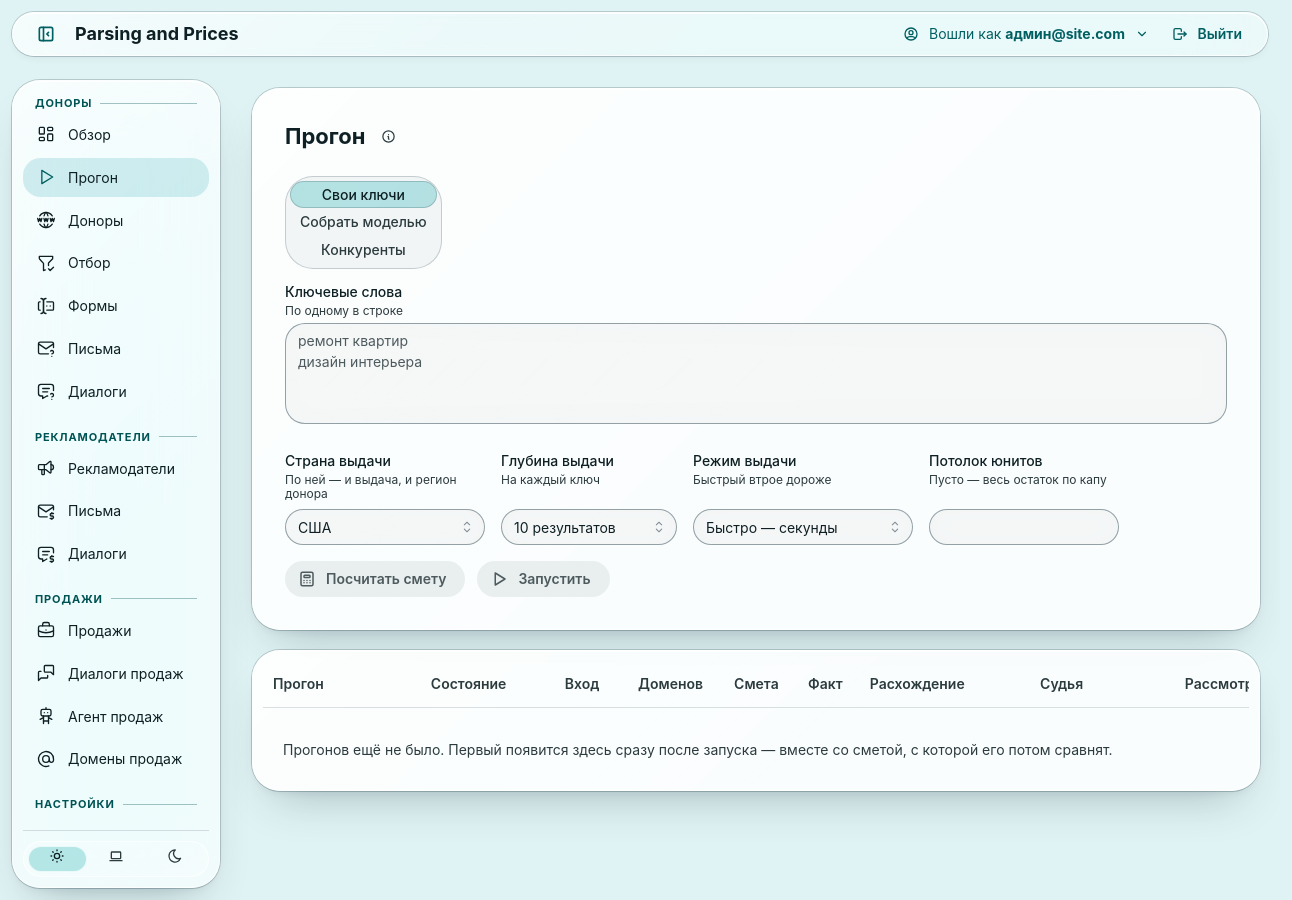
Test: вход «Конкуренты» › полей ключей и выдачи нет вовсе: они не отрисованы, а не спрятаны
Expected: the text box labelled "Ключевые слова" is shown, [285,323,1227,424]
Click the 1st radio button labelled "Конкуренты" at coordinates (363, 250), box [321,241,406,258]
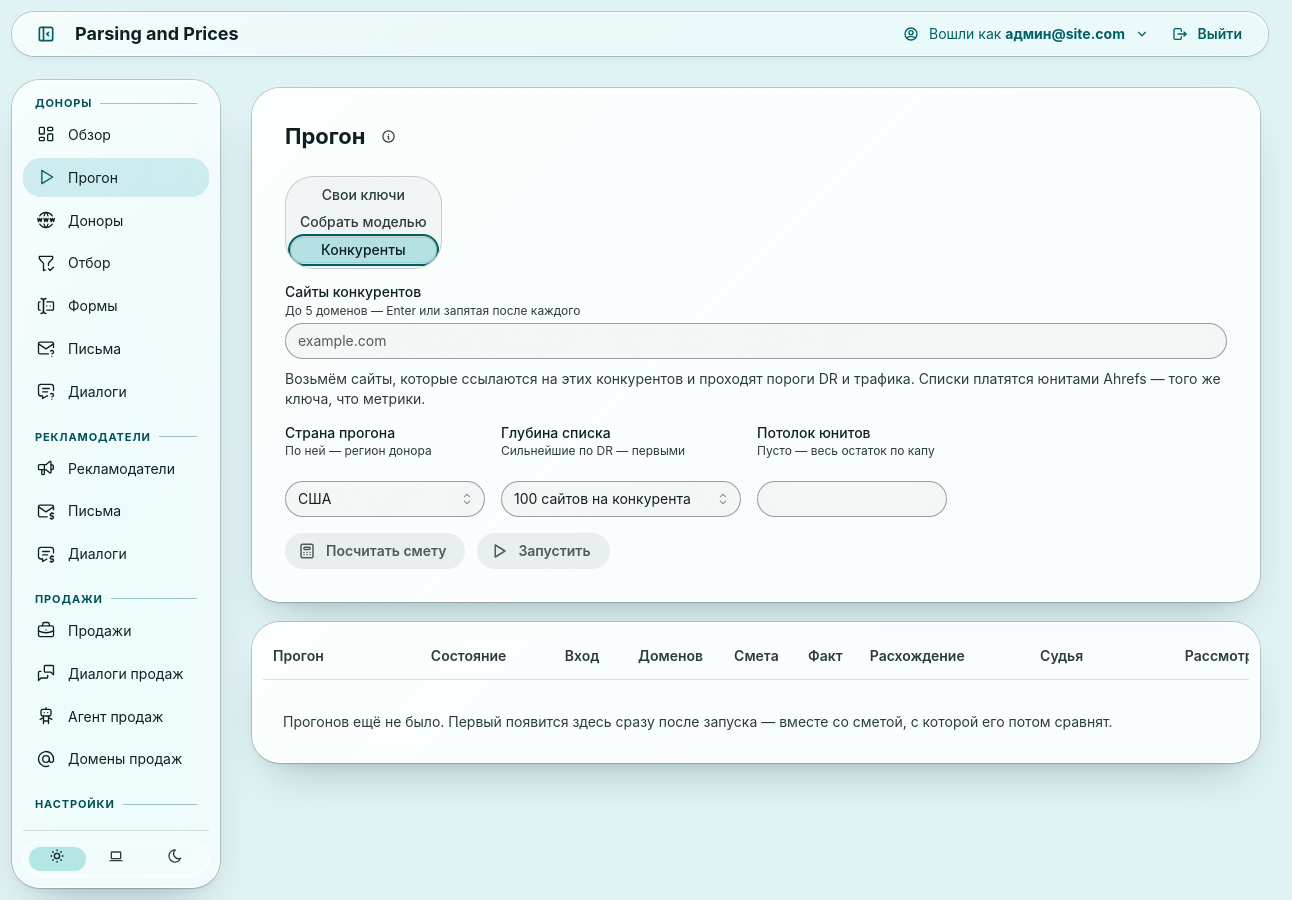
Expected: the field labelled "Сайты конкурентов" is shown, [298,330,1214,352]
Expected: the label labelled "Ключевые слова" is gone
Expected: the text "Режим выдачи" is gone
